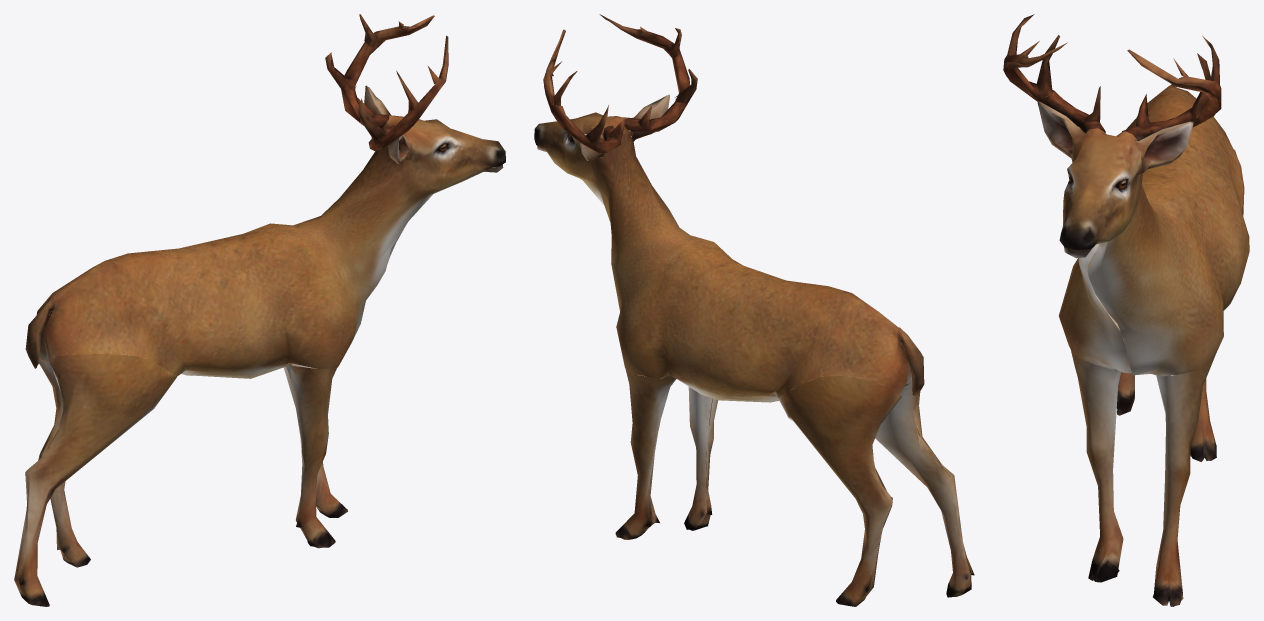
File: deer.glb
3 views of the same model, side by side, from view 1: azimuth 30°, elevation 25°; view 2: azimuth 150°, elevation 25°; view 3: azimuth 270°, elevation 25° (orthographic). The views are drawn at different scales.
Parts seen in each view (by area): view 1: deer.002; view 2: deer.002; view 3: deer.002.
Part boxes in pixels (x1,y1,x2,y2): deer.002: [14, 14, 505, 606]; deer.002: [534, 14, 974, 606]; deer.002: [1003, 14, 1249, 606].
Bounding box in the file's own units: 4.61 × 4.63 × 1.72.
1 material, 1 textured.
